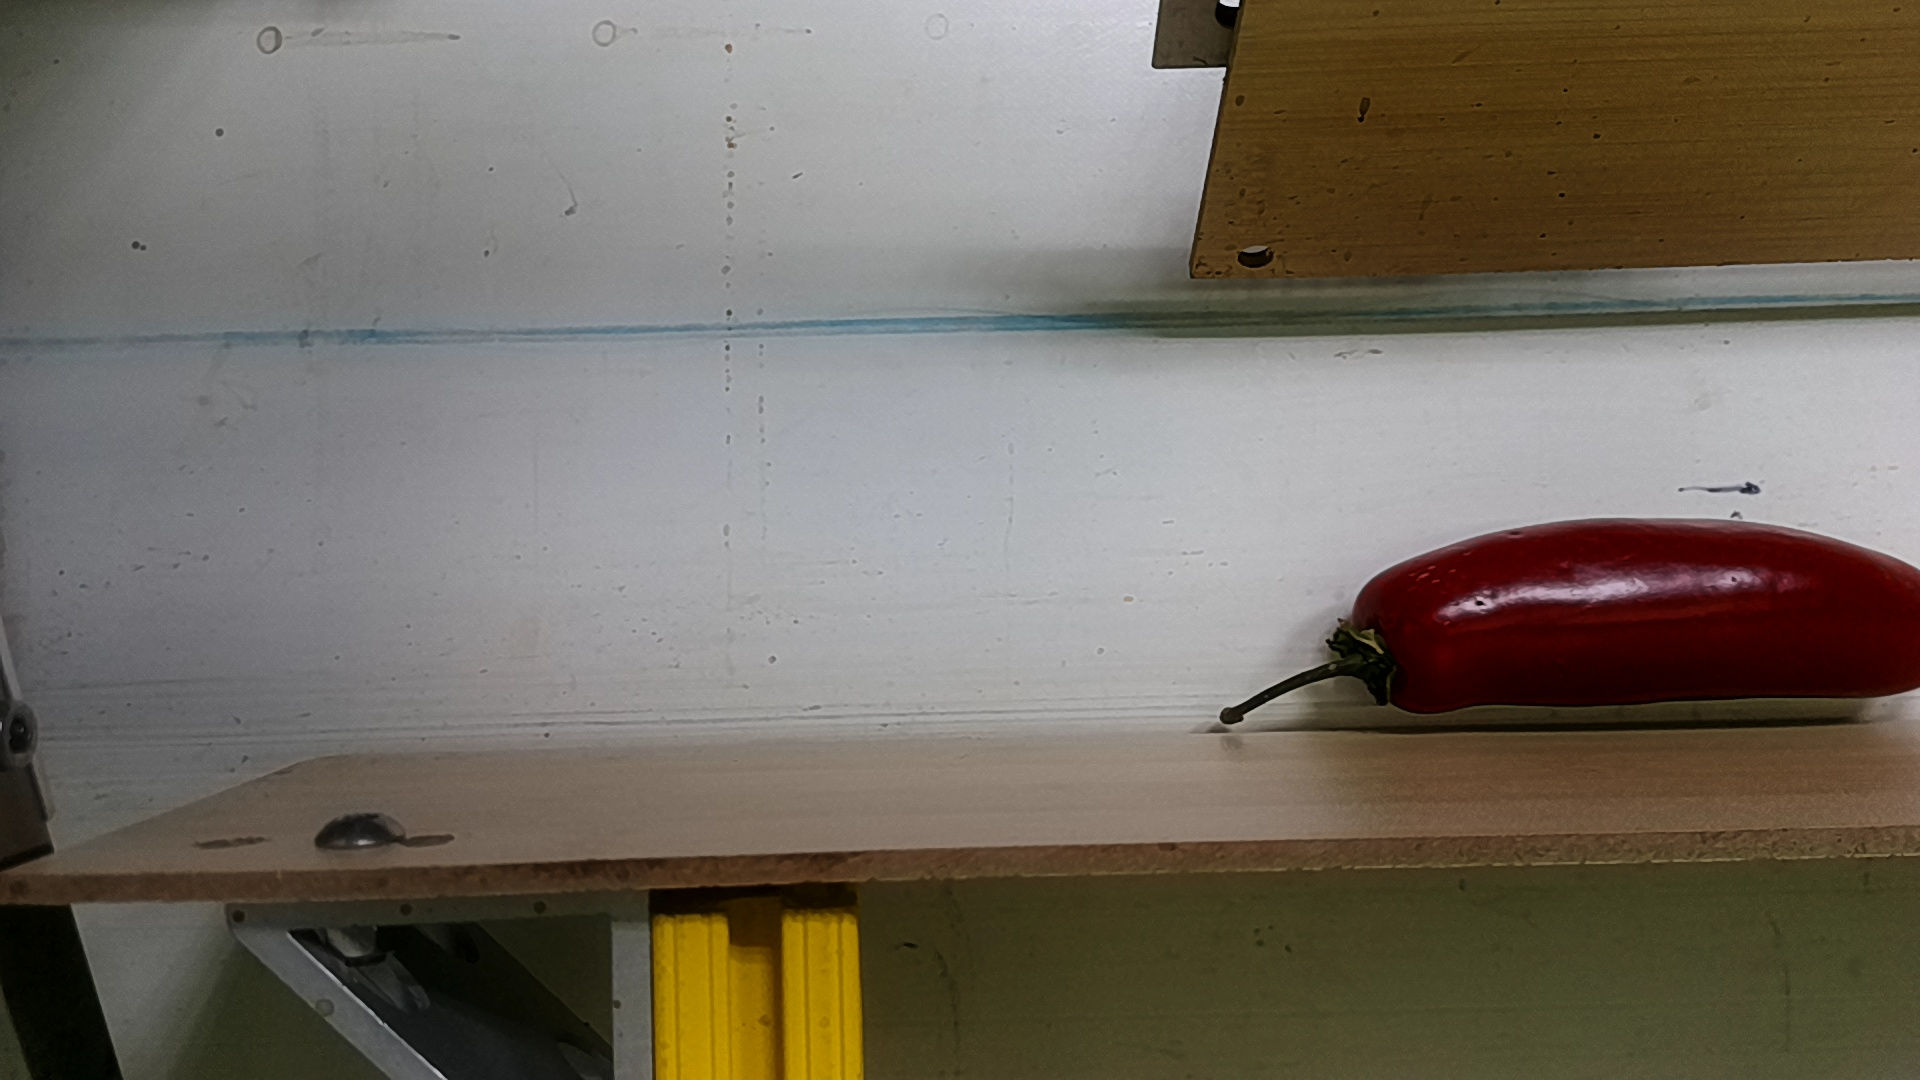Cut Point: (1341, 554, 1437, 723)
